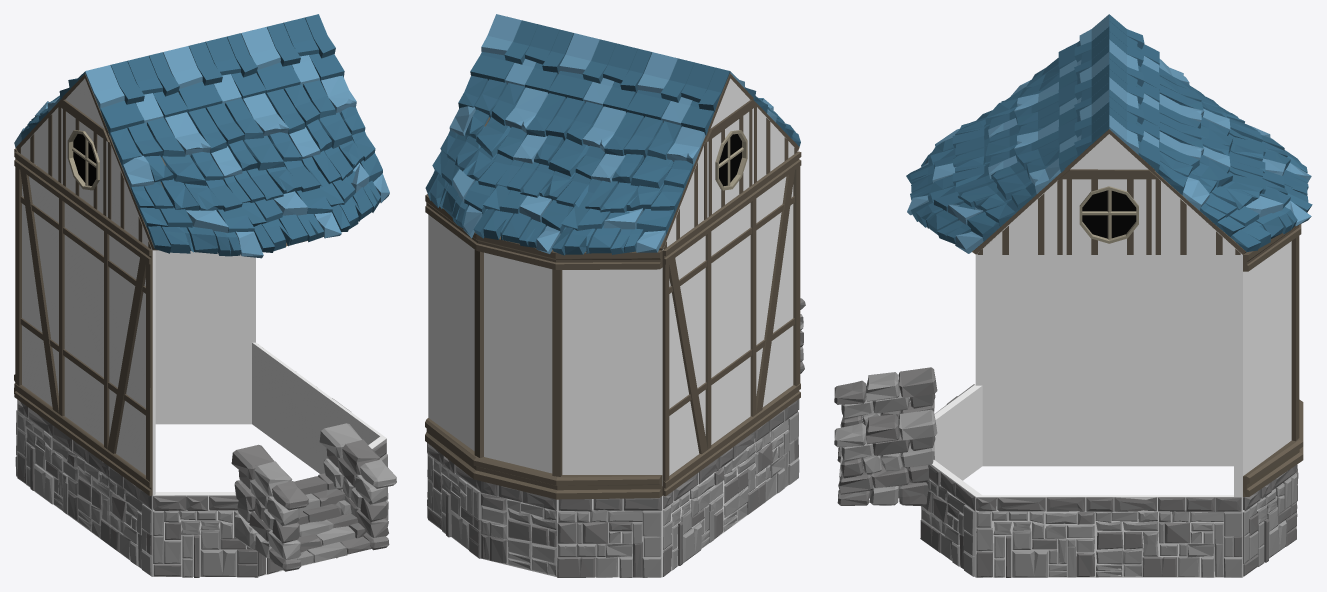
The model's file is House_15_parts.fbx.
The picture shows the model from 3 angles, left to right: view 1: azimuth 30°, elevation 25°; view 2: azimuth 150°, elevation 25°; view 3: azimuth 270°, elevation 25°; orthographic projection.
Visible parts, largest first — view 1: ROOF_base_round_2, WALL_02_2, STSAIRS_07_2, FOUNDATION_02_24, WINDOW_01_Balkon_2, FOUNDATION_01_4, FOUNDATION_01_5, FOUNDATION_02_25, ROOF_base_small_4, ROOF_base_small_6, ROOF_base_small_5, ROOF_Window_round_3 (+4 smaller); view 2: WINDOW_01_Balkon_2, ROOF_base_round_3, WALL_02_2, FOUNDATION_01_5, FOUNDATION_02_24, ROOF_base_small_9, ROOF_base_small_8, ROOF_base_small_7, ROOF_Window_round_3, ROOF_trinagle_left_wood_3, ROOF_trinagle_right_wood_3, ROOF_triangles_up_wood_4 (+1 smaller); view 3: WALL_02_2, FOUNDATION_02_25, FOUNDATION_02_24, ROOF_base_round_2, ROOF_base_round_3, WINDOW_01_Balkon_2, STSAIRS_07_2, FOUNDATION_01_4, ROOF_Window_round_2, FOUNDATION_01_5, ROOF_trinagle_right_wood_2, ROOF_trinagle_left_wood_2 (+7 smaller).
Part boxes in pixels (x1,y1,x2,y2): ROOF_base_round_2: [107, 75, 389, 258]; WALL_02_2: [14, 151, 155, 495]; STSAIRS_07_2: [231, 423, 396, 571]; FOUNDATION_02_24: [17, 399, 152, 576]; WINDOW_01_Balkon_2: [14, 148, 255, 393]; FOUNDATION_01_4: [152, 435, 388, 577]; FOUNDATION_01_5: [15, 342, 251, 476]; FOUNDATION_02_25: [252, 342, 381, 473]; ROOF_base_small_4: [85, 52, 188, 135]; ROOF_base_small_6: [241, 14, 344, 95]; ROOF_base_small_5: [163, 33, 266, 114]; ROOF_Window_round_3: [62, 109, 107, 216]; WINDOW_01_Balkon_2: [425, 194, 662, 499]; ROOF_base_round_3: [425, 75, 707, 255]; WALL_02_2: [662, 151, 801, 496]; FOUNDATION_01_5: [427, 443, 662, 577]; FOUNDATION_02_24: [662, 400, 799, 576]; ROOF_base_small_9: [626, 52, 730, 135]; ROOF_base_small_8: [470, 14, 573, 93]; ROOF_base_small_7: [548, 33, 651, 112]; ROOF_Window_round_3: [708, 109, 752, 216]; ROOF_trinagle_left_wood_3: [662, 142, 707, 250]; ROOF_trinagle_right_wood_3: [753, 106, 797, 183]; ROOF_triangles_up_wood_4: [705, 78, 756, 142]; WALL_02_2: [975, 255, 1233, 385]; FOUNDATION_02_25: [975, 495, 1242, 577]; FOUNDATION_02_24: [982, 385, 1233, 466]; ROOF_base_round_2: [906, 58, 1064, 254]; ROOF_base_round_3: [1153, 59, 1312, 254]; WINDOW_01_Balkon_2: [1234, 224, 1303, 496]; STSAIRS_07_2: [834, 367, 937, 506]; FOUNDATION_01_4: [920, 384, 984, 577]; ROOF_Window_round_2: [1064, 179, 1153, 254]; FOUNDATION_01_5: [1242, 464, 1298, 577]; ROOF_trinagle_right_wood_2: [1153, 179, 1242, 254]; ROOF_trinagle_left_wood_2: [976, 179, 1064, 254].
Bounding box in the file's own units: 309 × 559 × 537.
